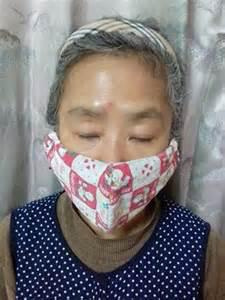WRONG: (50, 101, 175, 232)
